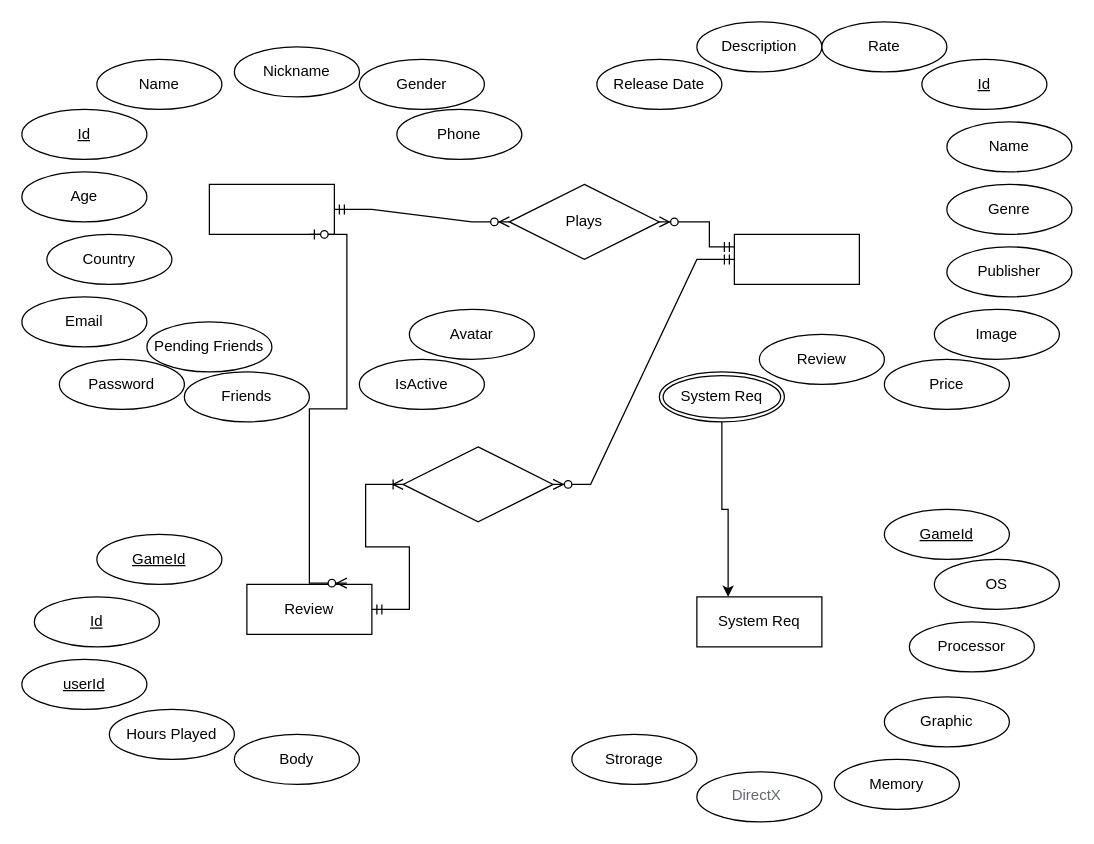
Some shapes in this 1094 by 844 pixel diagram are drawn without their labels. Here are the shapes that lost their labels. From the top down, the centre of each, then its label:
At [271,208]: "User".
At [796,258]: "Game".
At [477,484]: "Has".
